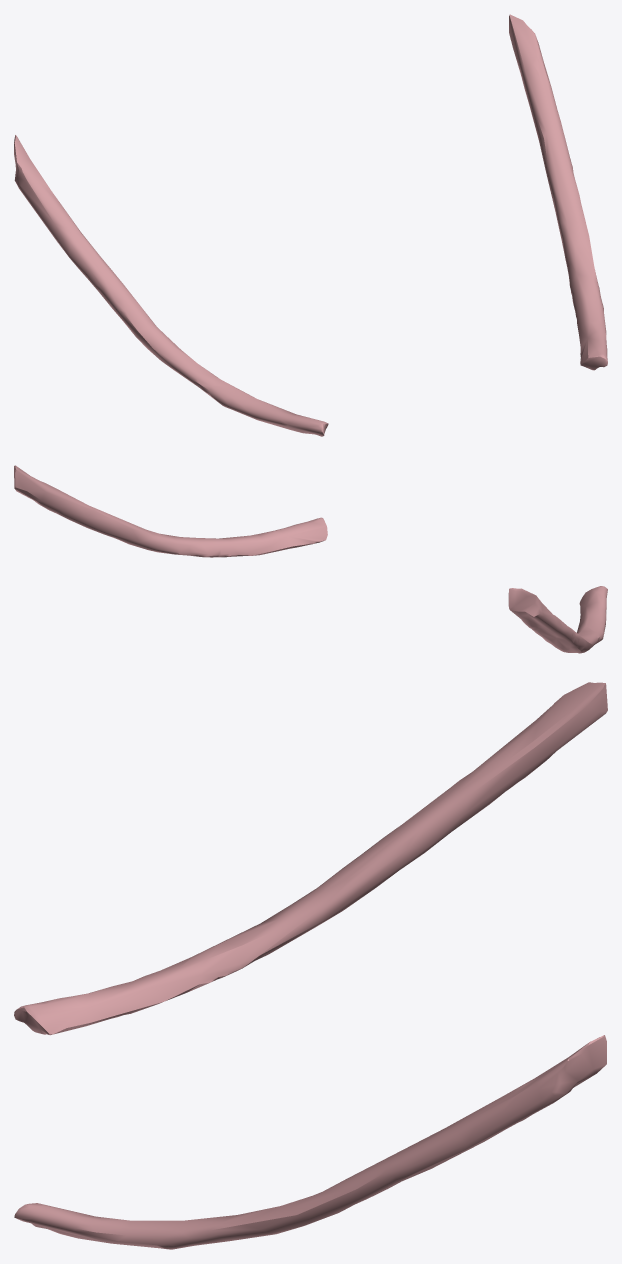
The model's file is fma46442_cx84.glb.
3 renders of one model, top to bottom at view 1: azimuth 30°, elevation 25°; view 2: azimuth 150°, elevation 25°; view 3: azimuth 270°, elevation 25°, orthographic. The views are drawn at different scales.
Parts seen in each view (by area): view 1: FMA46442_CX84; view 2: FMA46442_CX84; view 3: FMA46442_CX84.
Boxes of the visible parts, left/top/right/bottom form: FMA46442_CX84: left=14, top=14, right=607, bottom=436; FMA46442_CX84: left=14, top=465, right=607, bottom=653; FMA46442_CX84: left=14, top=682, right=607, bottom=1249.
Size of the model in its own units: 0.0981 by 0.0336 by 0.0662.
